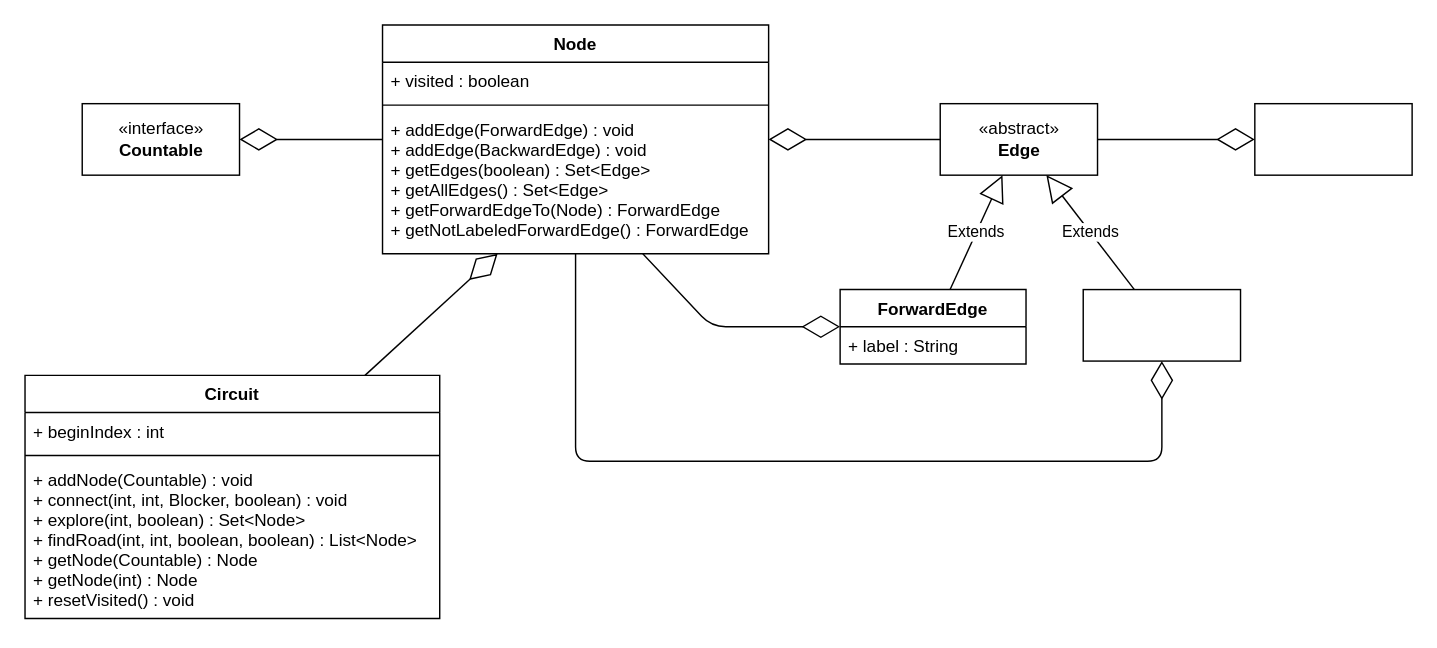
Some shapes in this 1437 by 648 pixel diagram are drawn without their labels. The centre of each missing label's shape, as x and y in pixels:
BackwardEdge: (x=1161, y=324)
«interface» Blocker: (x=1332, y=138)
